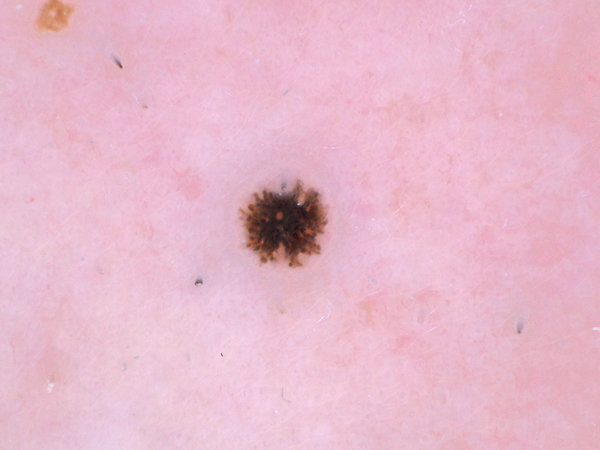Detected Lesion: (238, 173, 332, 269)
